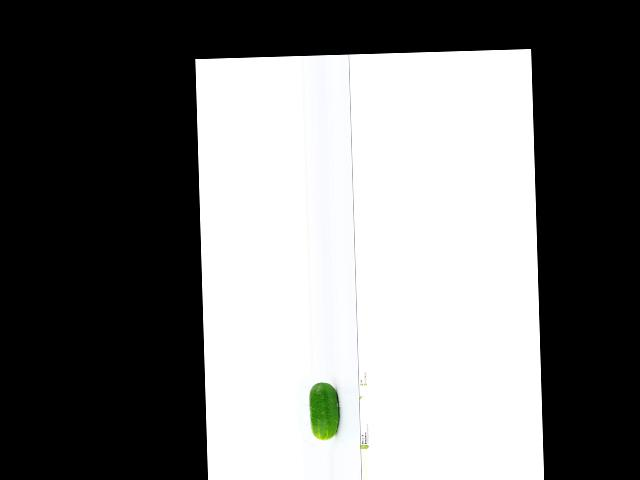cucumber: (309, 381, 340, 440)
